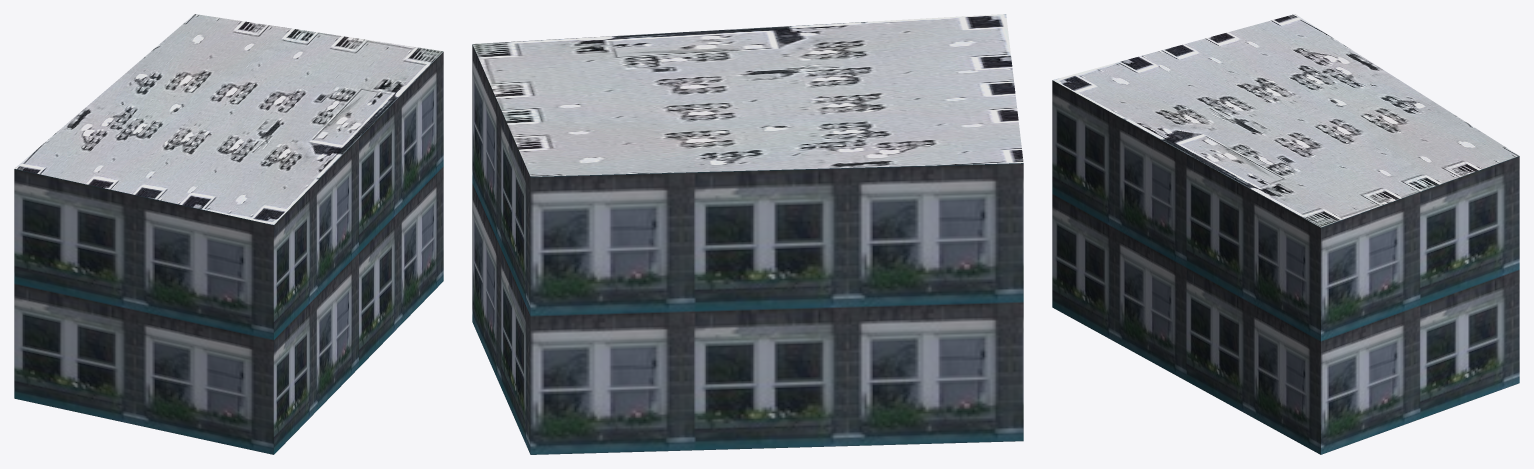
The model's file is ResTex__3563.fbx.
The picture shows the model from 3 angles, left to right: view 1: azimuth 30°, elevation 25°; view 2: azimuth 150°, elevation 25°; view 3: azimuth 270°, elevation 25°; orthographic projection. The views are drawn at different scales.
Visible parts, largest first — view 1: CityEngineMaterial_11_m, CityEngineMaterial_8_m; view 2: CityEngineMaterial_11_m, CityEngineMaterial_8_m; view 3: CityEngineMaterial_11_m, CityEngineMaterial_8_m.
Boxes of the visible parts, left/top/right/bottom form: CityEngineMaterial_11_m: left=14, top=52, right=443, bottom=454; CityEngineMaterial_8_m: left=14, top=14, right=443, bottom=224; CityEngineMaterial_11_m: left=472, top=44, right=1023, bottom=454; CityEngineMaterial_8_m: left=472, top=14, right=1023, bottom=176; CityEngineMaterial_11_m: left=1052, top=80, right=1519, bottom=454; CityEngineMaterial_8_m: left=1052, top=14, right=1518, bottom=227.
Bounding box in the file's own units: 12.09 × 6 × 11.17.
2 materials, 2 textured.
